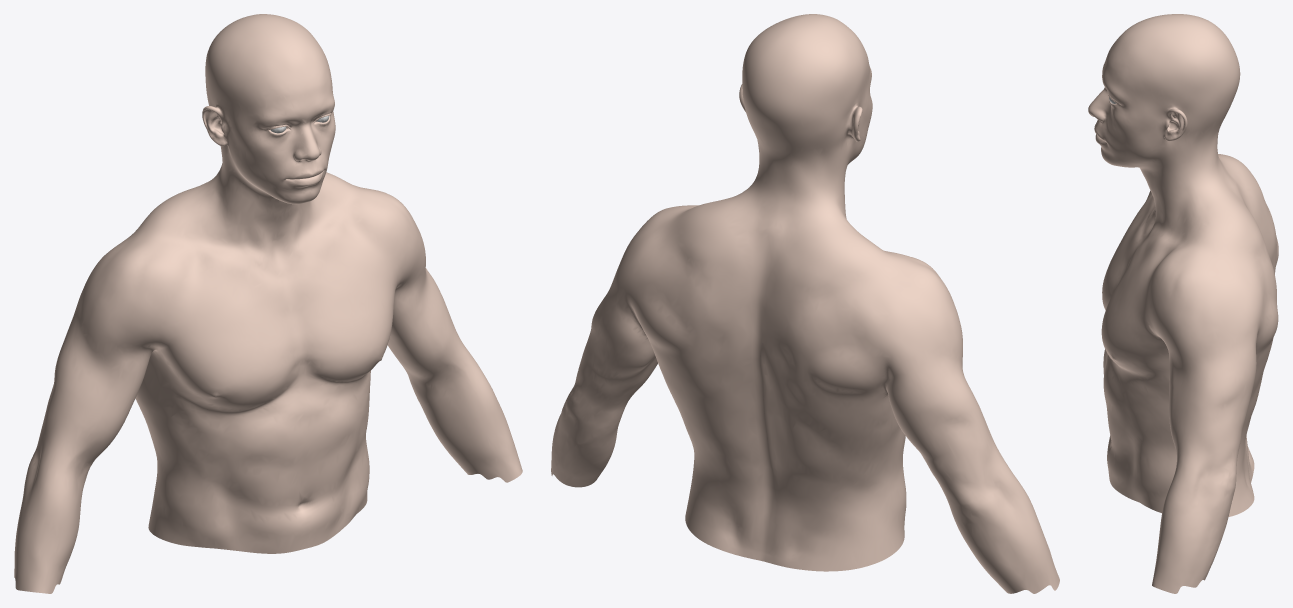
The model's file is male.glb.
The picture shows the model from 3 angles, left to right: view 1: azimuth 30°, elevation 25°; view 2: azimuth 150°, elevation 25°; view 3: azimuth 270°, elevation 25°; orthographic projection. The views are drawn at different scales.
Visible parts, largest first — view 1: GEO-body_male_realistic; view 2: GEO-body_male_realistic; view 3: GEO-body_male_realistic.
Part boxes in pixels (x1,y1,x2,y2): GEO-body_male_realistic: (14,14,522,593); GEO-body_male_realistic: (551,14,1059,593); GEO-body_male_realistic: (1088,14,1278,593).
Size of the model in its own units: 0.7673 by 0.7428 by 0.2762.
